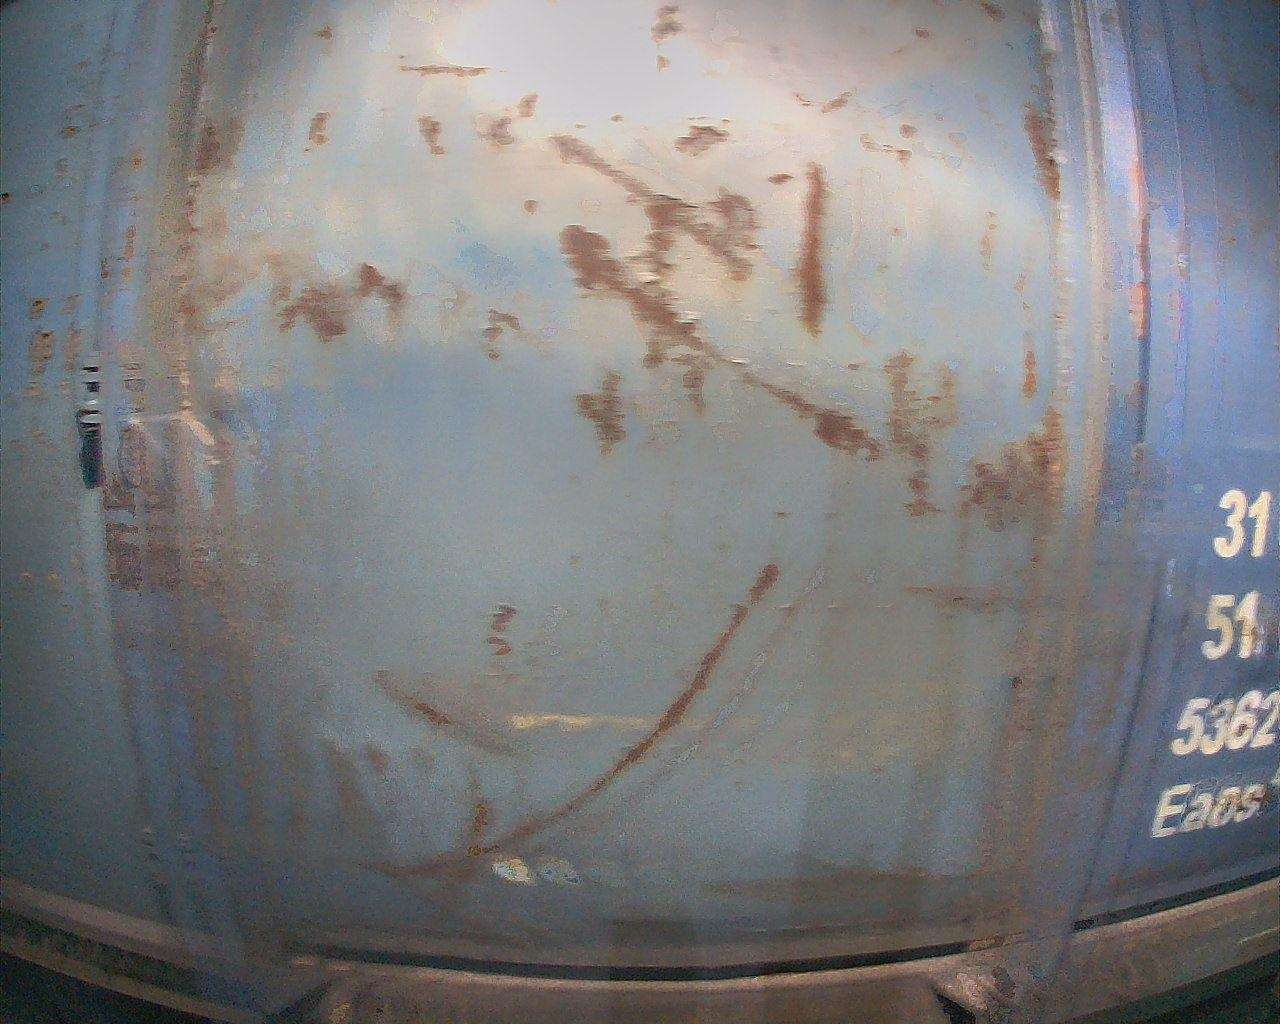UIC: (1146, 480, 1280, 845)
